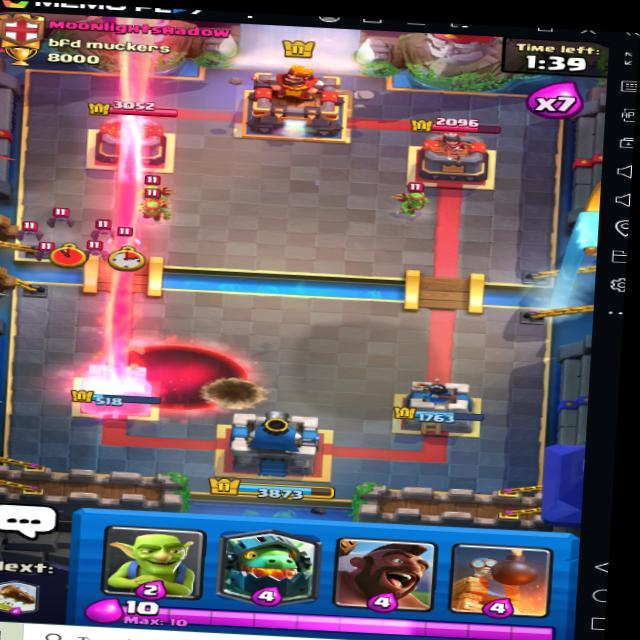bats: (87, 216, 128, 242), (45, 205, 82, 229), (76, 240, 109, 264), (10, 220, 46, 242), (35, 239, 64, 262)
spear-goblin: (396, 185, 434, 217), (140, 172, 177, 204), (139, 197, 178, 220)
void: (110, 338, 256, 415)
